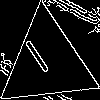I: (21, 38, 57, 83)
